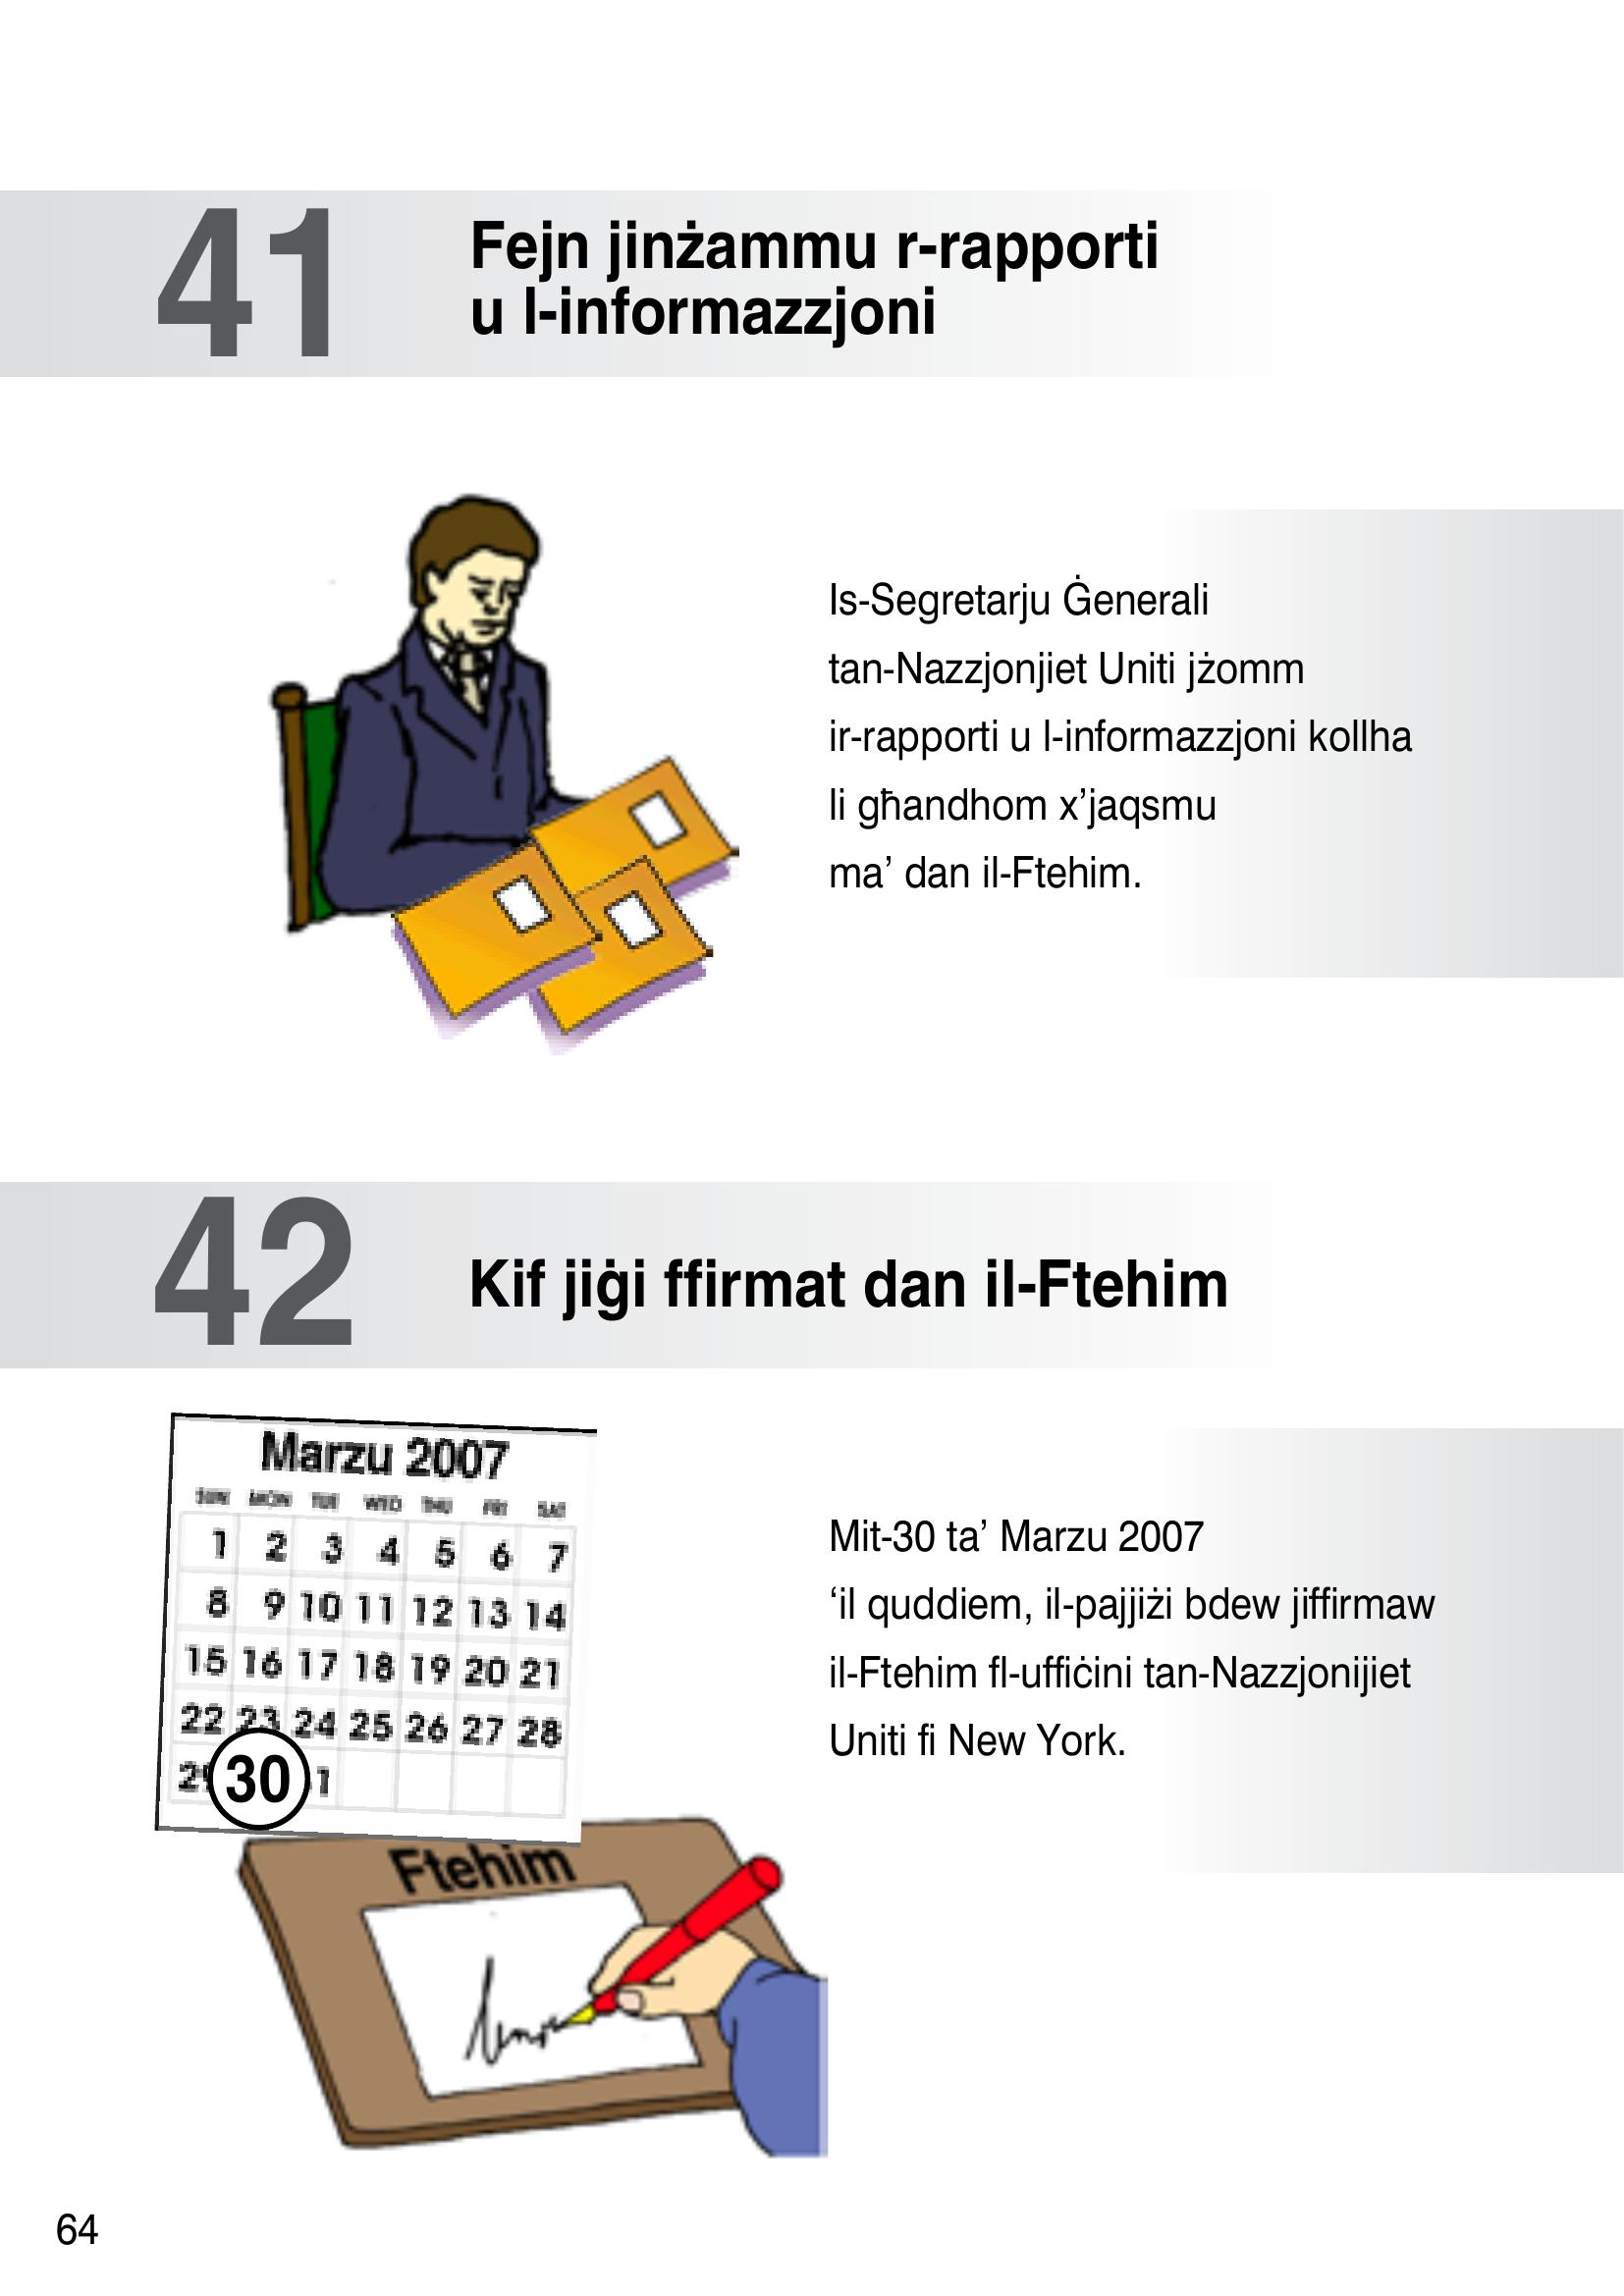text: (803, 560, 1441, 921), (798, 1491, 1461, 1797), (141, 1188, 1262, 1367), (144, 191, 1174, 379)
